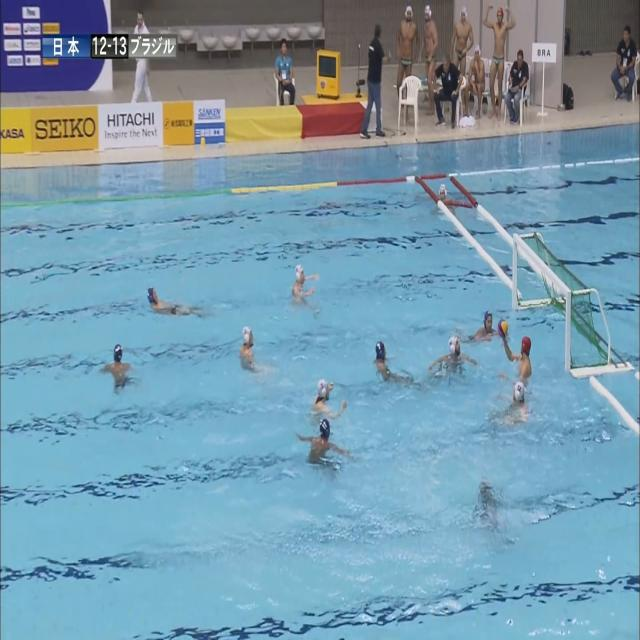ball: (498, 320, 508, 337)
